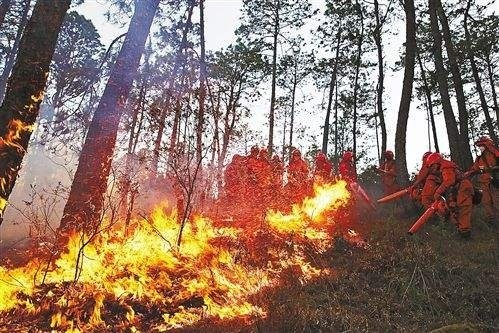fire: (9, 113, 352, 329)
